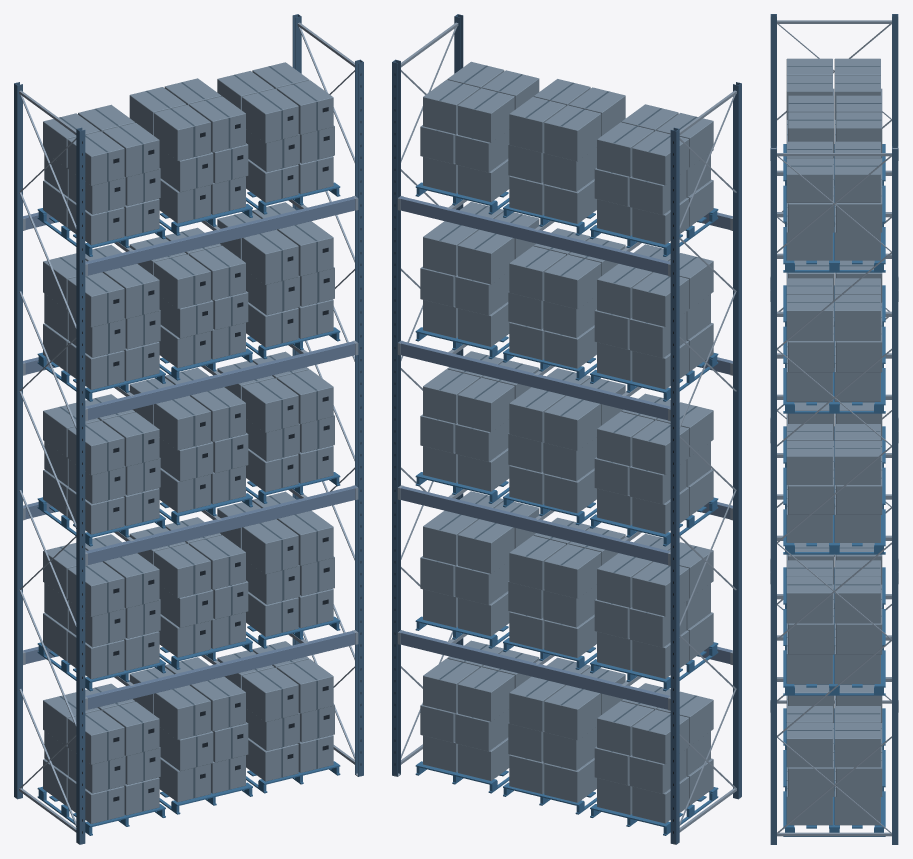
File: SM_GHS_V2Rack_C.fbx
The picture shows the model from 3 angles, left to right: view 1: azimuth 30°, elevation 25°; view 2: azimuth 150°, elevation 25°; view 3: azimuth 270°, elevation 25°; orthographic projection. The views are drawn at different scales.
Parts seen in each view (by area): view 1: SM_GHS_V2Rack_C; view 2: SM_GHS_V2Rack_C; view 3: SM_GHS_V2Rack_C.
Part boxes in pixels (x1,y1,x2,y2): SM_GHS_V2Rack_C: [14, 14, 363, 844]; SM_GHS_V2Rack_C: [392, 14, 741, 844]; SM_GHS_V2Rack_C: [770, 14, 898, 844].
Bounding box in the file's own units: 381 × 153 × 914.
